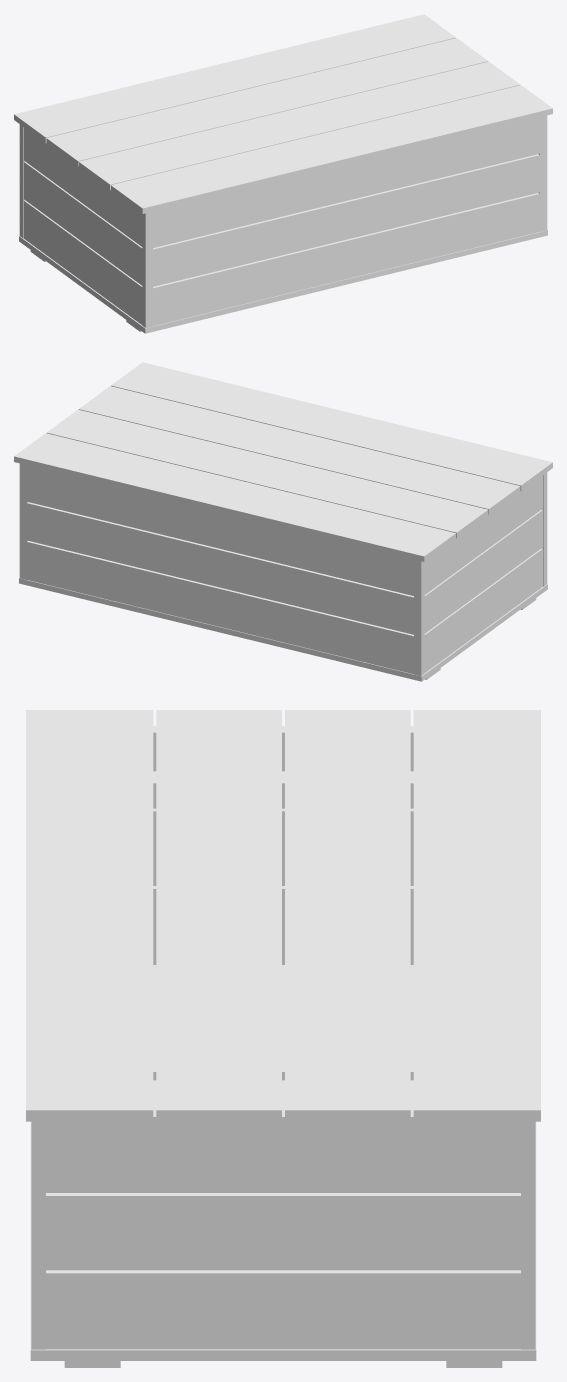
File: Prop_Crate_Box_Open_02.glb
3 views of the same model, one above another, from view 1: azimuth 30°, elevation 25°; view 2: azimuth 150°, elevation 25°; view 3: azimuth 270°, elevation 25° (orthographic). The views are drawn at different scales.
Parts seen in each view (by area): view 1: Prop_Crate_Box_Open_02, Prop_Crate_Box_Open_Top_02; view 2: Prop_Crate_Box_Open_02, Prop_Crate_Box_Open_Top_02; view 3: Prop_Crate_Box_Open_Top_02, Prop_Crate_Box_Open_02.
Boxes of the visible parts, bbox=[...] form: Prop_Crate_Box_Open_02: bbox=[19, 115, 547, 333]; Prop_Crate_Box_Open_Top_02: bbox=[14, 14, 552, 213]; Prop_Crate_Box_Open_02: bbox=[19, 463, 547, 681]; Prop_Crate_Box_Open_Top_02: bbox=[14, 362, 552, 561]; Prop_Crate_Box_Open_Top_02: bbox=[26, 710, 540, 1121]; Prop_Crate_Box_Open_02: bbox=[30, 726, 536, 1367].
Size of the model in its own units: 1.7 by 0.5227 by 0.9219.
1 material, 1 textured.
